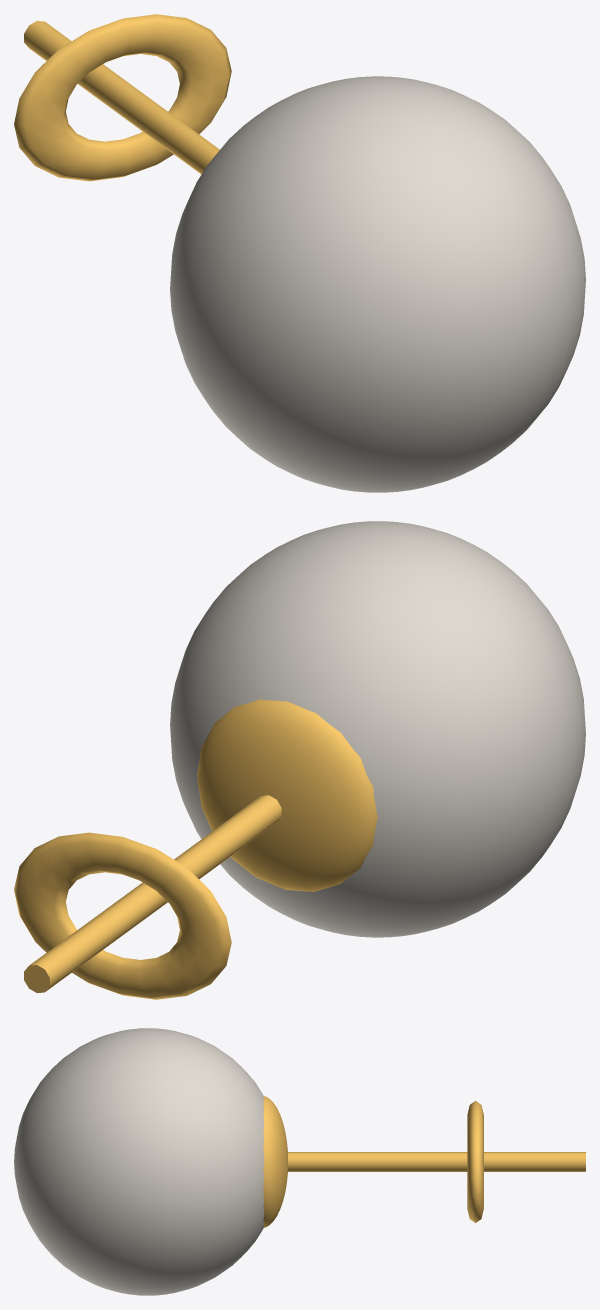
Rendered from pearl-stud.glb.
3 renders of one model, top to bottom at view 1: azimuth 30°, elevation 25°; view 2: azimuth 150°, elevation 25°; view 3: azimuth 270°, elevation 25°, orthographic. The views are drawn at different scales.
Parts seen in each view (by area): view 1: pearl-stud_pearl, pearl-stud_gold22k; view 2: pearl-stud_pearl, pearl-stud_gold22k; view 3: pearl-stud_pearl, pearl-stud_gold22k.
Part boxes in pixels (left/top/right/bottom): pearl-stud_pearl: left=170, top=76, right=585, bottom=492; pearl-stud_gold22k: left=14, top=14, right=231, bottom=181; pearl-stud_pearl: left=170, top=521, right=585, bottom=937; pearl-stud_gold22k: left=14, top=699, right=377, bottom=999; pearl-stud_pearl: left=14, top=1028, right=264, bottom=1295; pearl-stud_gold22k: left=263, top=1096, right=585, bottom=1227.
Bounding box in the file's own units: 0.8 × 0.8 × 1.71.
